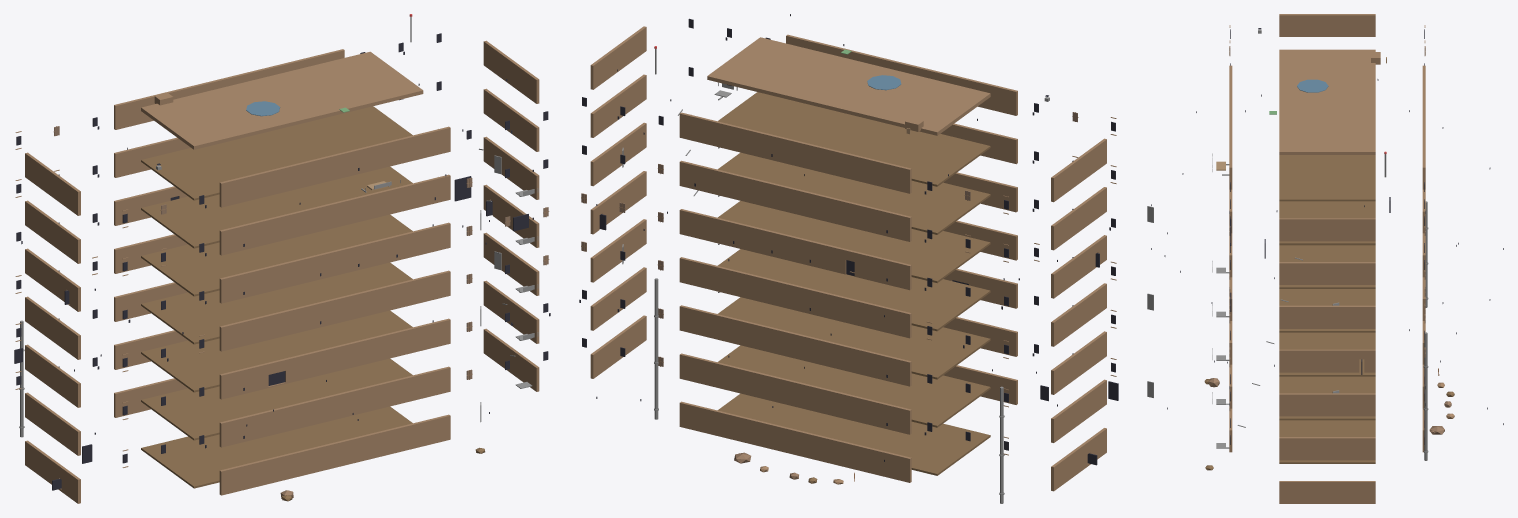
Rendered from building_bottom_right.glb.
3 views of the same model, side by side, from view 1: azimuth 30°, elevation 25°; view 2: azimuth 150°, elevation 25°; view 3: azimuth 270°, elevation 25° (orthographic). The views are drawn at different scales.
Parts seen in each view (by area): view 1: roof_slab, floor_slab.006, floor_slab, floor_slab.001, floor_slab.002, floor_slab.004, floor_slab.003, floor_slab.005, wall_s_0.0, wall_s_1.0, wall_s_3.0, wall_s_6.0 (+24 smaller); view 2: roof_slab, floor_slab.006, floor_slab, floor_slab.001, floor_slab.003, floor_slab.002, floor_slab.004, floor_slab.005, wall_n_0.0, wall_n_6.0, wall_n_3.0, wall_n_1.0 (+25 smaller); view 3: roof_slab, floor_slab.006, wall_e_1.0, wall_e_2.0, wall_e_4.0, wall_e_6.0, floor_slab.002, wall_e_3.0, wall_e_0.0, floor_slab.005, wall_e_5.0, wall_w_6.0 (+7 smaller).
Part boxes in pixels (<box>): roof_slab: <box>141,51,423,149</box>; floor_slab.006: <box>141,106,412,200</box>; floor_slab: <box>141,406,412,488</box>; floor_slab.001: <box>141,358,412,440</box>; floor_slab.002: <box>141,310,412,392</box>; floor_slab.004: <box>141,214,412,296</box>; floor_slab.003: <box>141,262,412,344</box>; floor_slab.005: <box>141,166,412,248</box>; wall_s_0.0: <box>219,414,450,495</box>; wall_s_1.0: <box>219,366,450,447</box>; wall_s_3.0: <box>219,270,450,351</box>; wall_s_6.0: <box>219,126,450,207</box>; roof_slab: <box>707,37,990,135</box>; floor_slab.006: <box>718,92,990,186</box>; floor_slab: <box>717,393,990,475</box>; floor_slab.001: <box>718,345,990,427</box>; floor_slab.003: <box>717,249,990,331</box>; floor_slab.002: <box>718,297,990,379</box>; floor_slab.004: <box>718,200,990,283</box>; floor_slab.005: <box>718,152,990,234</box>; wall_n_0.0: <box>679,401,911,482</box>; wall_n_6.0: <box>679,112,911,193</box>; wall_n_3.0: <box>679,257,911,338</box>; wall_n_1.0: <box>679,353,911,434</box>; roof_slab: <box>1279,49,1375,154</box>; floor_slab.006: <box>1279,155,1375,201</box>; wall_e_1.0: <box>1279,437,1375,460</box>; wall_e_2.0: <box>1279,393,1375,416</box>; wall_e_4.0: <box>1279,305,1375,328</box>; wall_e_6.0: <box>1279,218,1375,241</box>; floor_slab.002: <box>1279,332,1375,376</box>; wall_e_3.0: <box>1279,349,1375,372</box>; wall_e_0.0: <box>1279,481,1375,503</box>; floor_slab.005: <box>1279,201,1375,245</box>; wall_e_5.0: <box>1279,262,1375,284</box>; wall_w_6.0: <box>1279,14,1375,36</box>.
Bounding box in the file's own units: 10.34 × 7.61 × 7.38.
